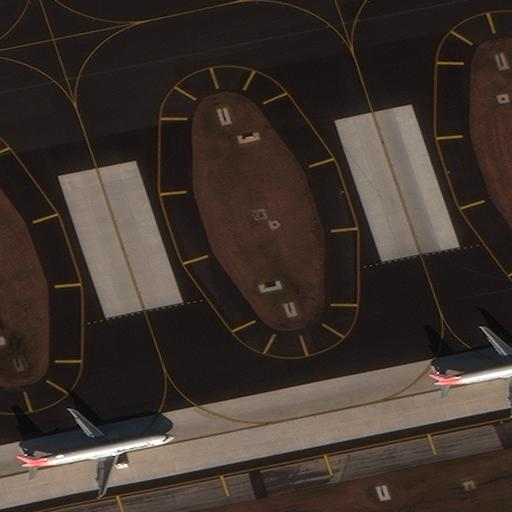Medium Civil Transport: (16, 409, 173, 493), (428, 326, 511, 410)
